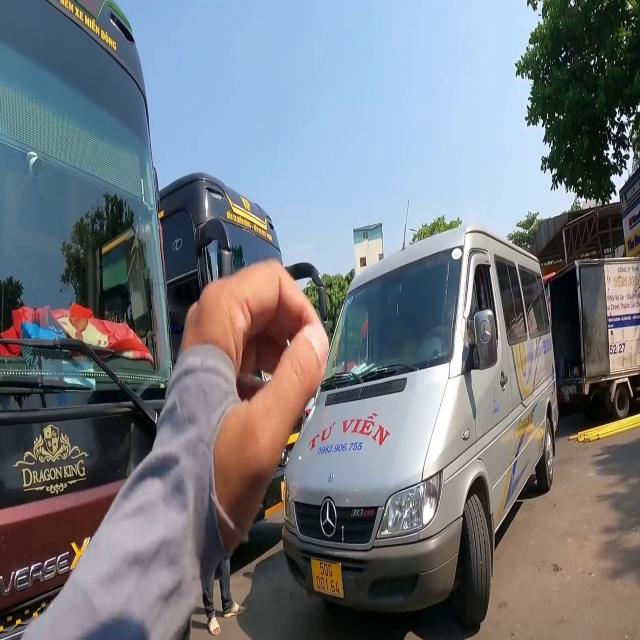bien_vang: (308, 557, 347, 597)
